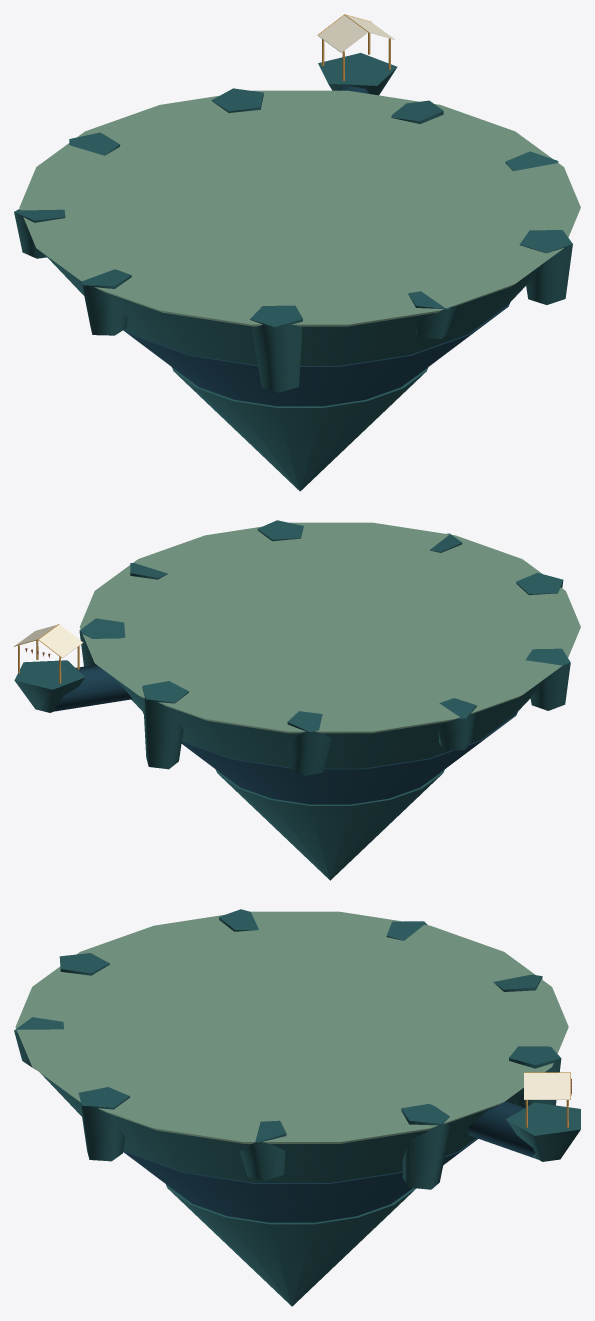
File: island-1-low.glb
The picture shows the model from 3 angles, top to bottom: view 1: azimuth 30°, elevation 25°; view 2: azimuth 150°, elevation 25°; view 3: azimuth 270°, elevation 25°; orthographic projection. The views are drawn at different scales.
Visible parts, largest first — view 1: island-0-terrace-merged, teal-basalt-merged, deep-basalt-merged, chalk-sail-merged; view 2: island-0-terrace-merged, teal-basalt-merged, deep-basalt-merged, chalk-sail-merged; view 3: island-0-terrace-merged, teal-basalt-merged, deep-basalt-merged, chalk-sail-merged.
Boxes of the visible parts, x1,y1,x2,y2 form: island-0-terrace-merged: (19, 90, 580, 326); teal-basalt-merged: (14, 53, 572, 491); deep-basalt-merged: (123, 85, 510, 406); chalk-sail-merged: (318, 15, 394, 52); island-0-terrace-merged: (79, 522, 580, 733); teal-basalt-merged: (14, 520, 570, 880); deep-basalt-merged: (53, 664, 517, 804); chalk-sail-merged: (15, 624, 83, 658); island-0-terrace-merged: (15, 911, 568, 1143); teal-basalt-merged: (14, 909, 580, 1306); deep-basalt-merged: (123, 1101, 537, 1222); chalk-sail-merged: (524, 1073, 570, 1099).
Bounding box in the file's own units: 75.72 × 49.07 × 77.87.
